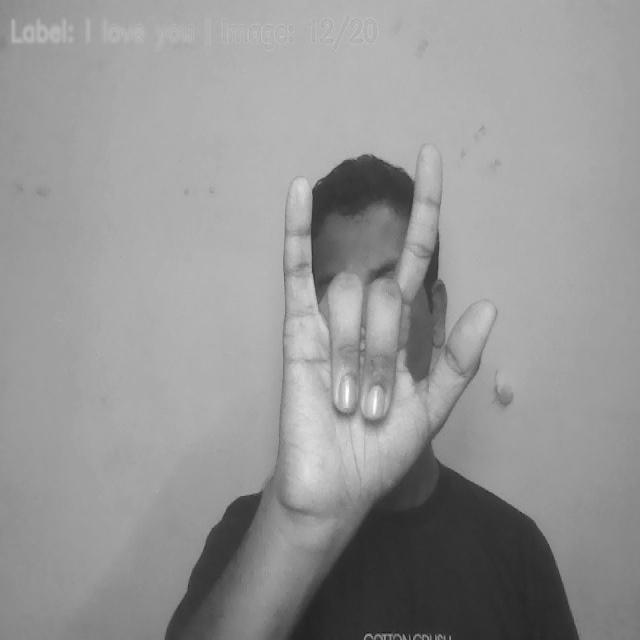I love you: (279, 139, 498, 512)
